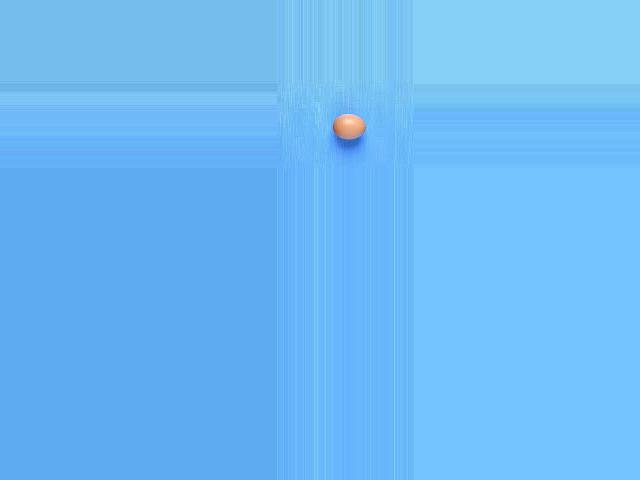egg: (333, 113, 365, 140)
